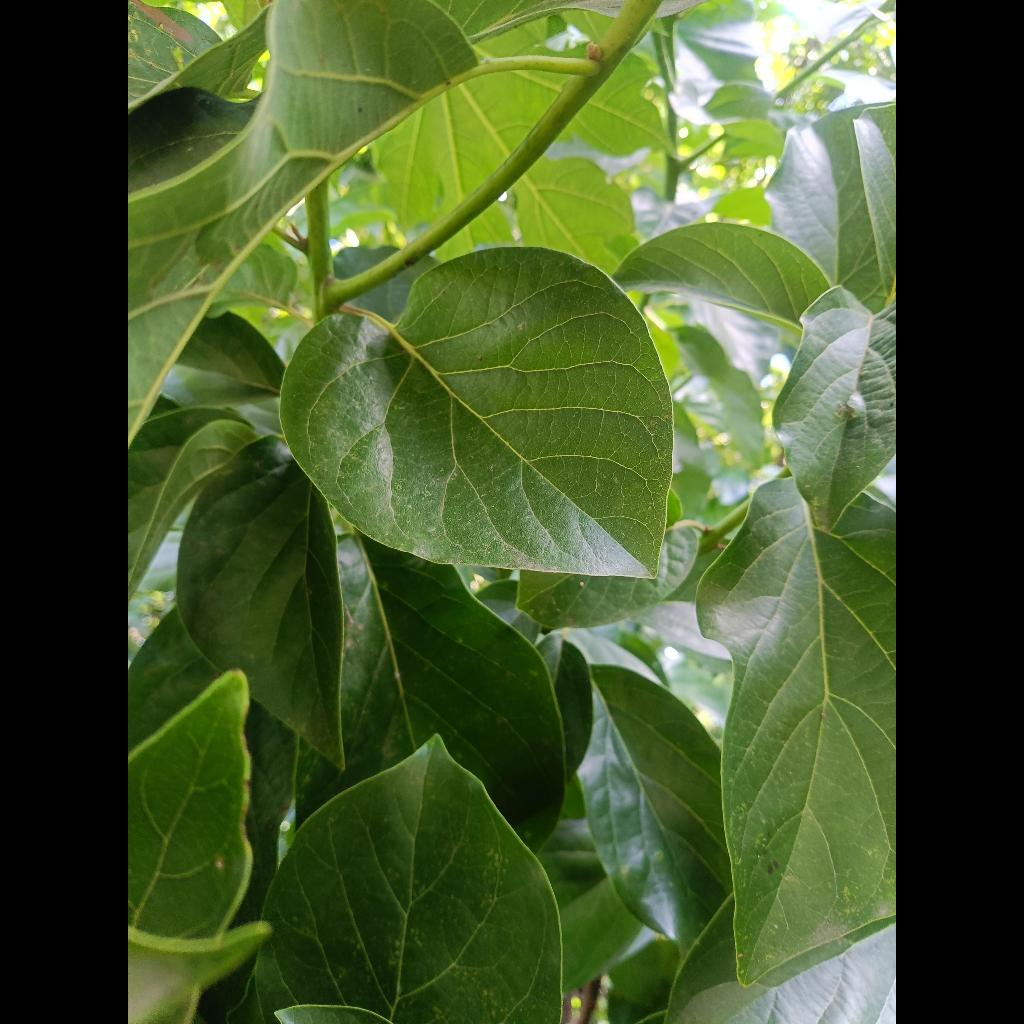Healthy: (281, 247, 673, 578)
